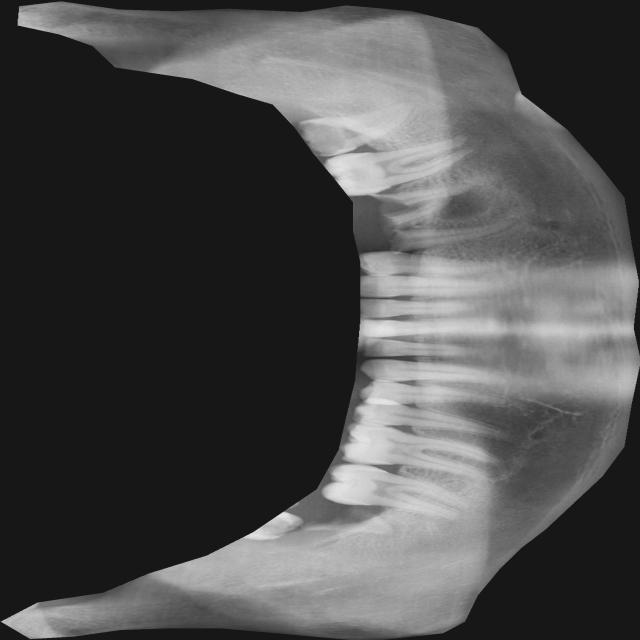mandibula: (1, 0, 640, 640)
